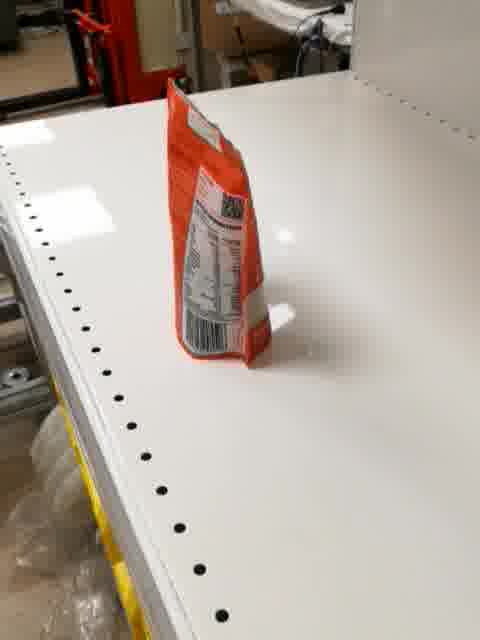whitechia: (162, 75, 275, 370)
